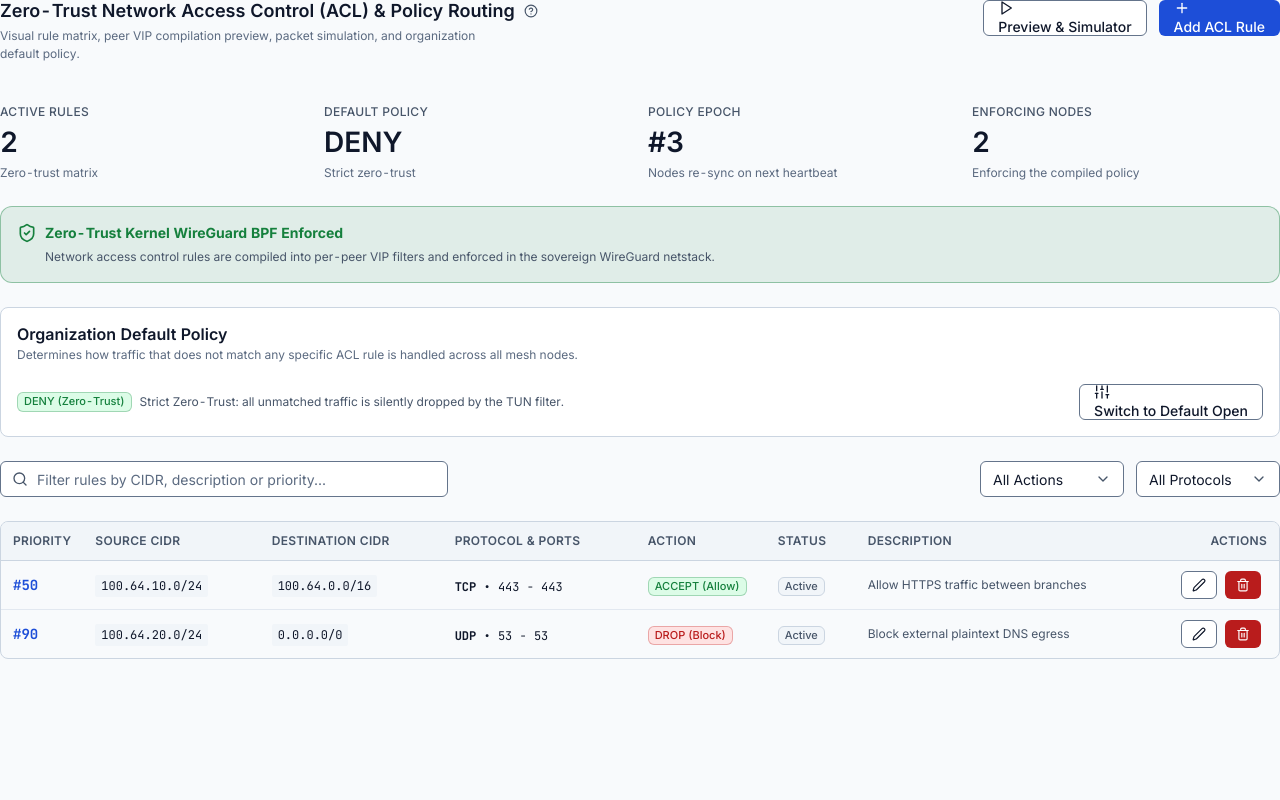
Test: WP-407: AclsRoute (Visual ACL Rule Editor, Policy Routing & Organization Default Policy) › 6. Deletes rule with confirmation dialog and handles empty permissive mesh state
Expected: the text "100.64.10.0/24" is shown, top-left (95, 574), bottom-right (208, 596)
# Click delete on rule 1
Click the button named "delete rule acl-rule-1".
click(1243, 585)  # box top-left (1225, 571), bottom-right (1261, 599)
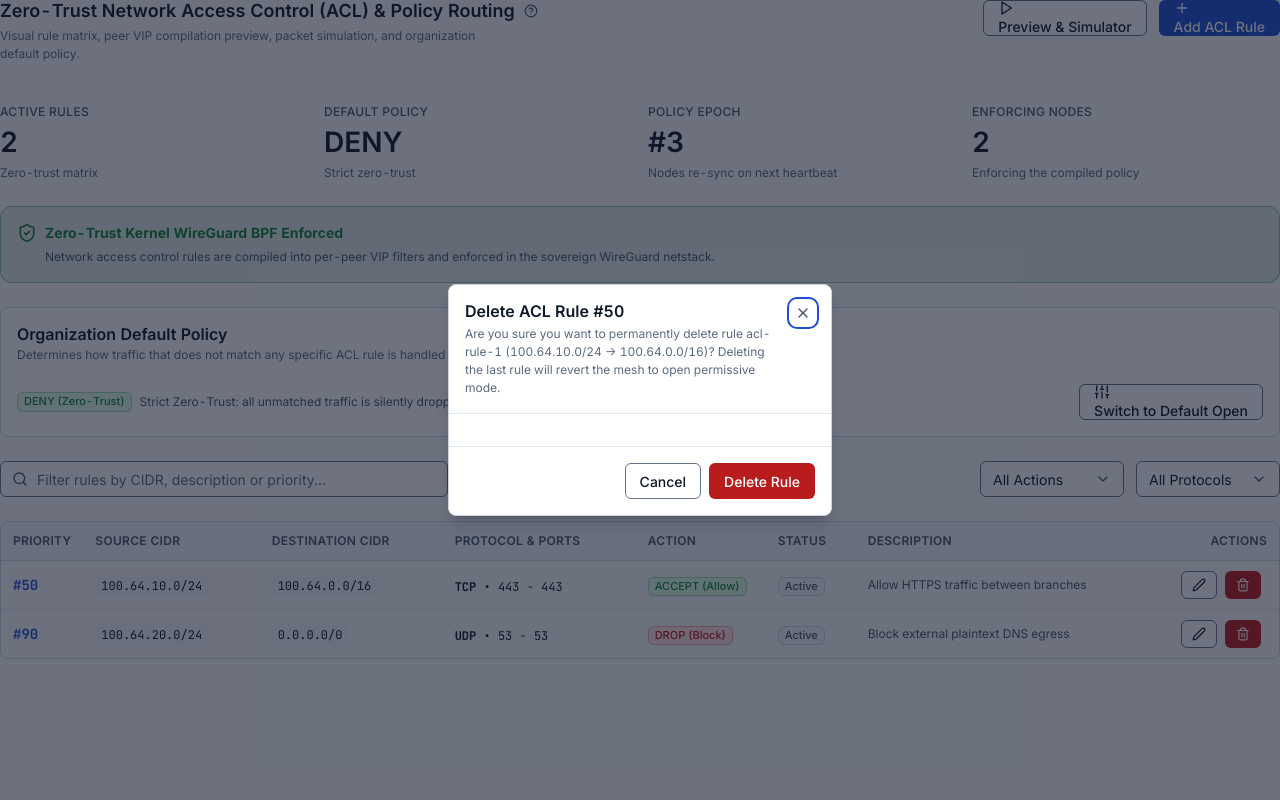
Expected: the button "Delete Rule" is shown
Click the button "Delete Rule".
click(762, 481)  # box top-left (709, 463), bottom-right (815, 499)
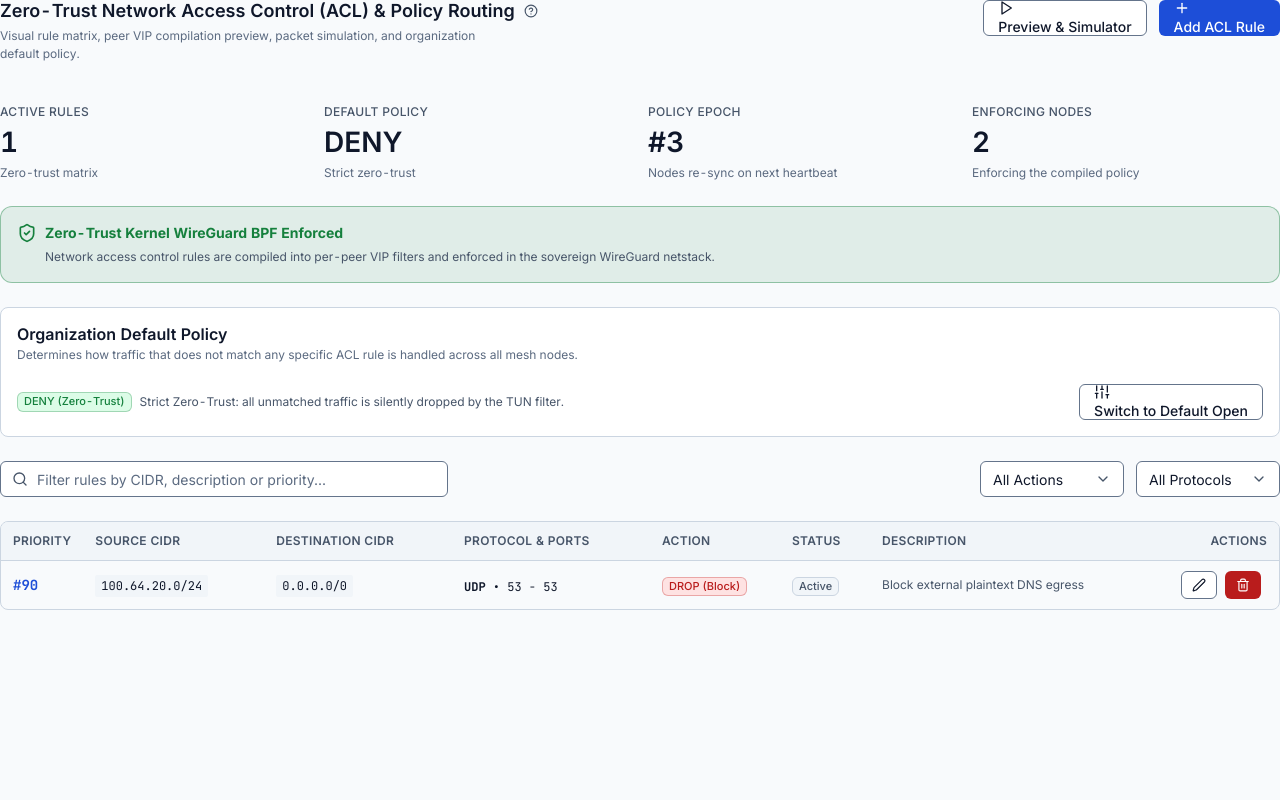
Expected: the text "100.64.10.0/24" is gone
